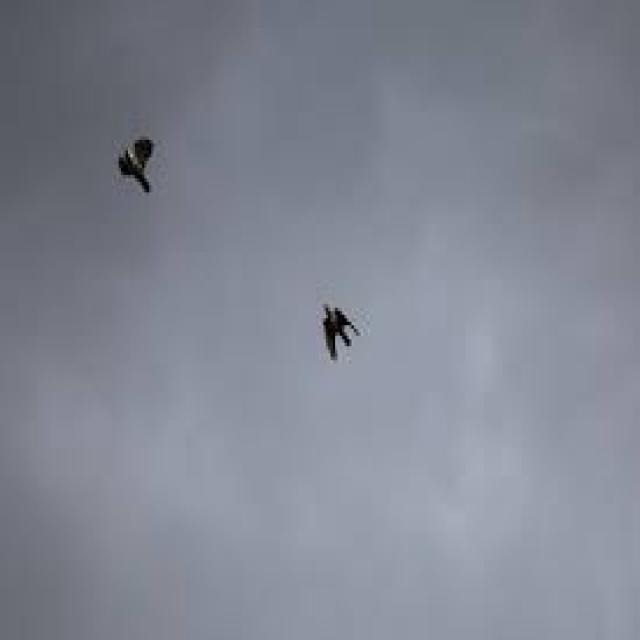bird: (95, 127, 197, 205), (306, 280, 364, 359)
